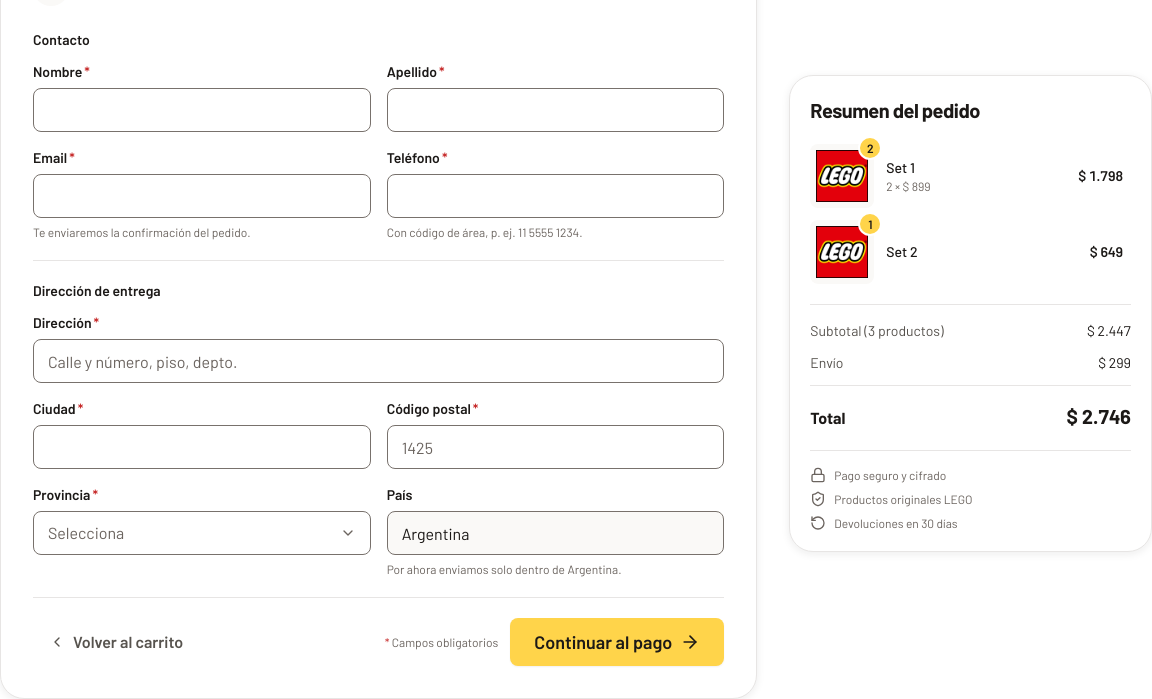
Checkout › shows Spanish errors on an empty shipping form and focuses the first invalid field
The width and height of the screenshot is (1152, 699).
(page scrolled)
Click the button "Continuar al pago" at (617,642), box [510, 618, 724, 666]
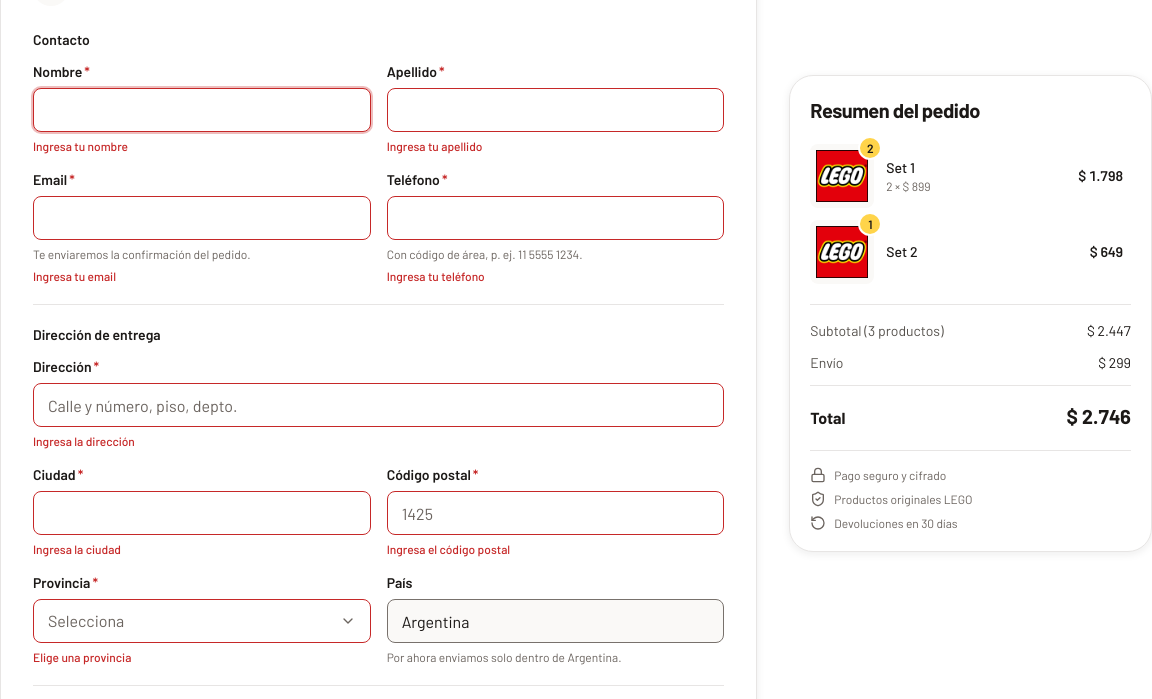
Check: the field labelled "País" holds "Argentina", box [387, 599, 724, 643]
Check: the text "Ingresa tu nombre" is shown, box [33, 139, 128, 153]
